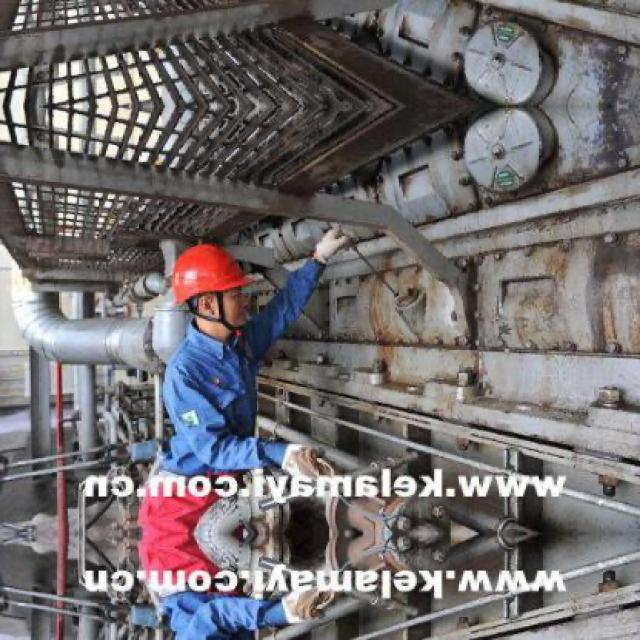con casco: (156, 234, 260, 325)
